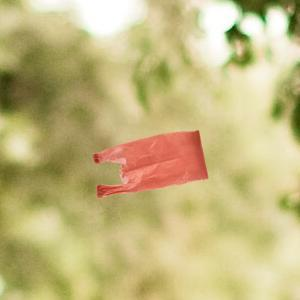plastic_bag: (85, 127, 213, 202)
